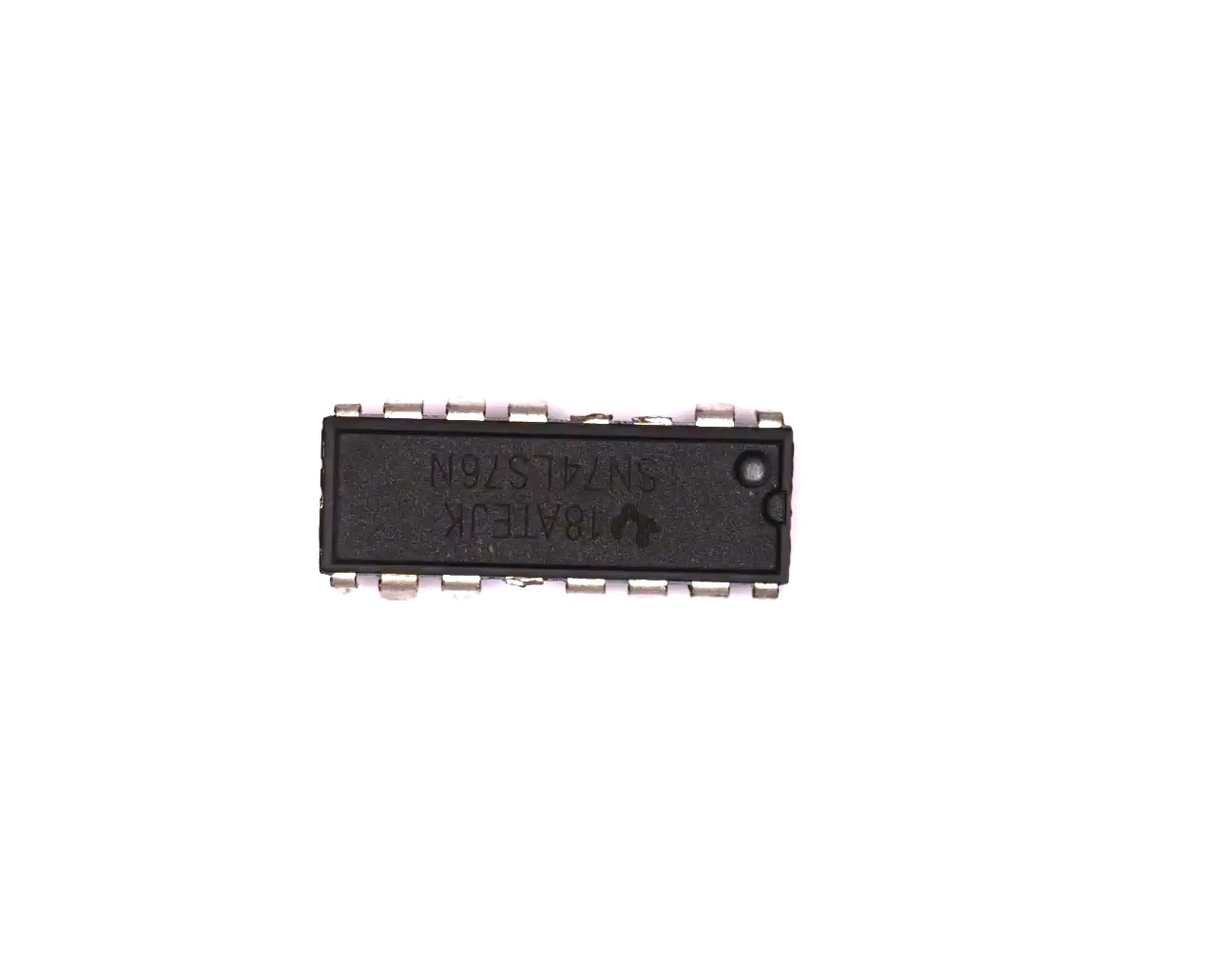IC: (311, 392, 810, 616)
notch: (761, 483, 796, 538)
